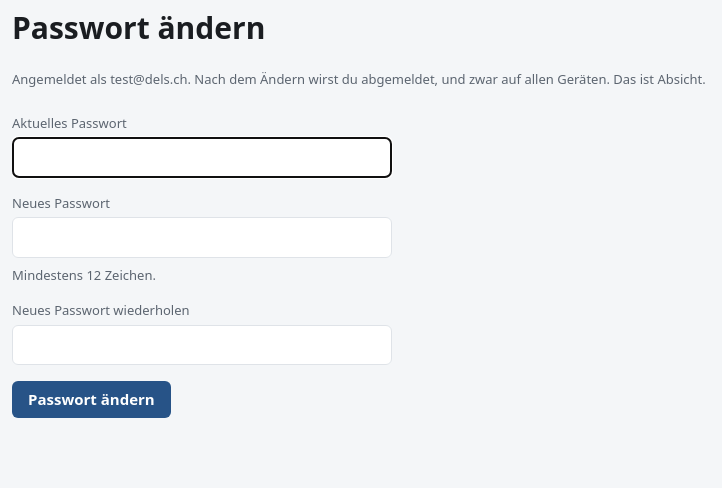
Test: Fehlerfall › zeigt die Servermeldung und bleibt im Formular
Type "altes-passwort-lang" into the password field labelled "Aktuelles Passwort" at (202, 157), box [12,137,392,178]
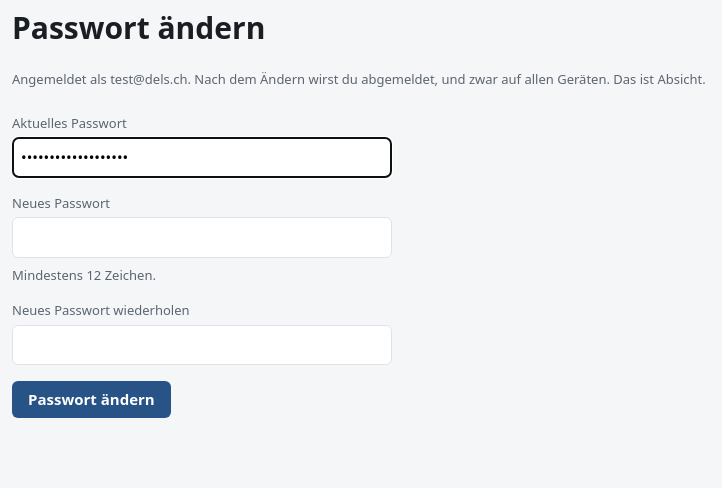
Type "neues-passwort-lang" into the password field labelled "Neues Passwort" at (202, 237), box [12,217,392,258]
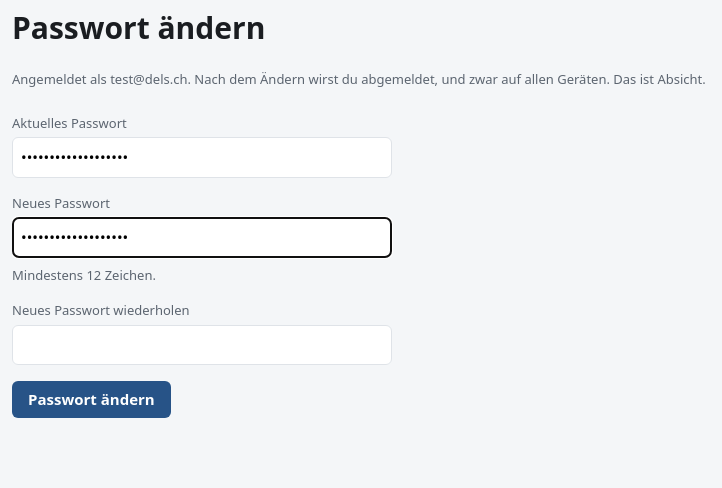
Type "neues-passwort-lang" into the password field labelled "Neues Passwort wiederholen" at (202, 345), box [12,325,392,365]
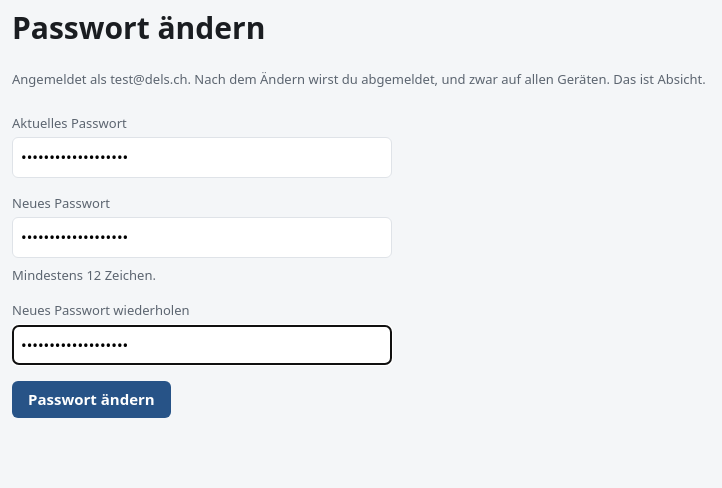
Click the button "Passwort ändern" at (91, 399), box [12,381,171,418]
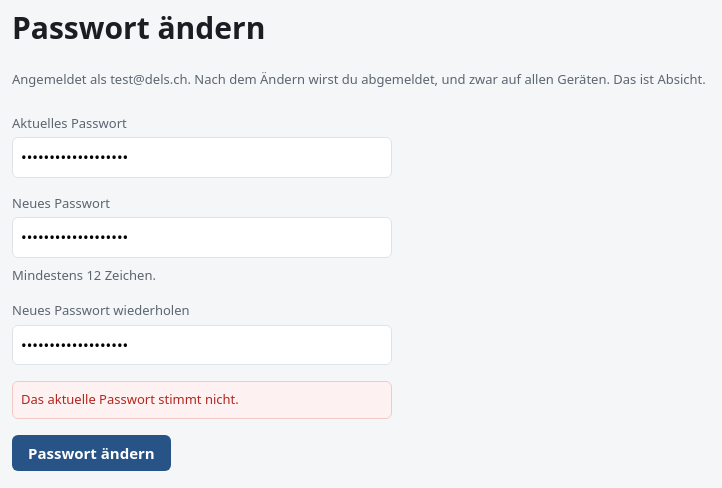
expect the text "Das aktuelle Passwort stimmt nicht." is shown: met, box [12,381,392,419]
